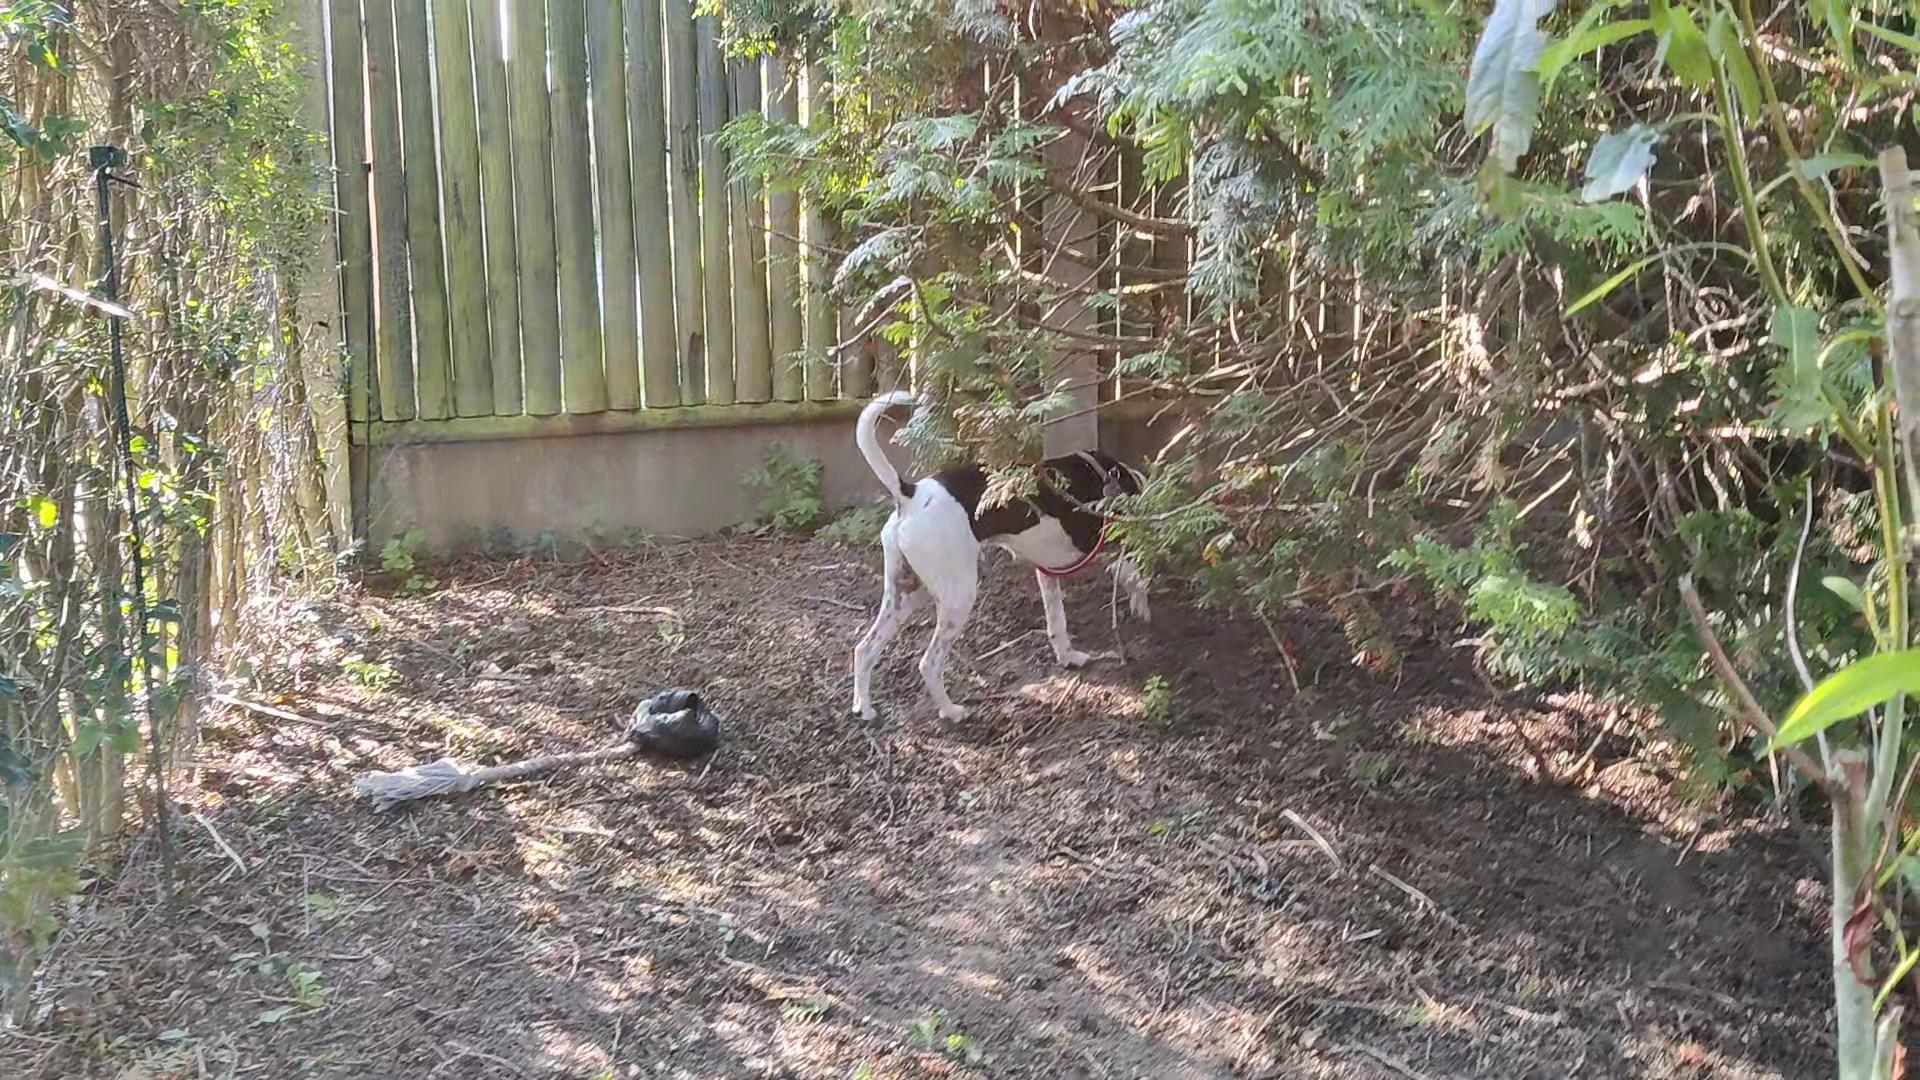Dog: (840, 384, 1182, 723)
